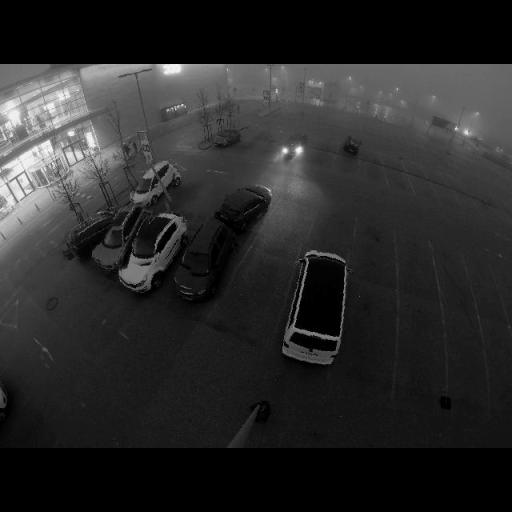busy: (264, 239, 360, 374), (166, 218, 240, 304), (116, 211, 191, 295), (90, 205, 155, 272), (212, 185, 270, 231), (128, 162, 180, 208), (64, 212, 112, 258), (278, 138, 310, 160), (212, 128, 239, 149), (340, 134, 362, 157)
free: (348, 303, 394, 366), (398, 318, 444, 378), (236, 264, 286, 314), (446, 332, 484, 382), (396, 246, 432, 296), (269, 207, 307, 246), (356, 238, 394, 276), (436, 260, 466, 304), (314, 222, 352, 256), (359, 212, 395, 244), (195, 182, 229, 214), (470, 276, 500, 303), (172, 183, 196, 209), (360, 166, 382, 183), (386, 173, 406, 189), (337, 158, 356, 173), (415, 182, 433, 197), (436, 189, 452, 205)
